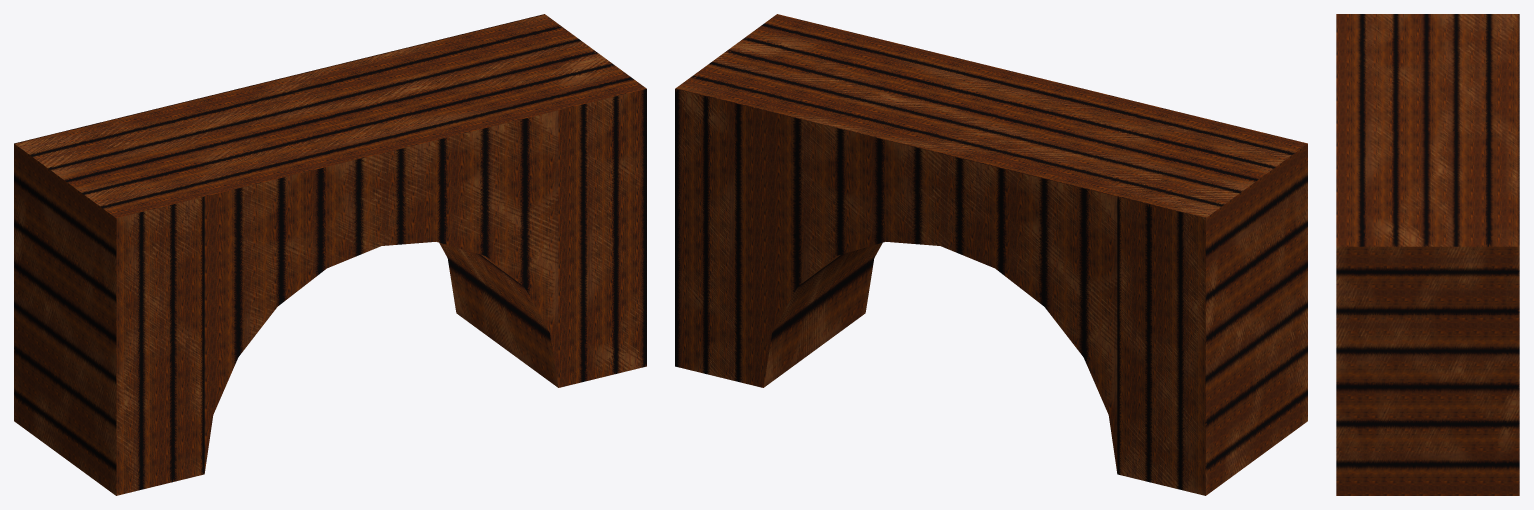
The model's file is doorway_1.fbx.
3 renders of one model, left to right at view 1: azimuth 30°, elevation 25°; view 2: azimuth 150°, elevation 25°; view 3: azimuth 270°, elevation 25°, orthographic. The views are drawn at different scales.
Visible parts, largest first — view 1: pCylinder1; view 2: pCylinder1; view 3: pCylinder1.
Part boxes in pixels (box(x1,y1,x2,y2)): pCylinder1: box(14, 14, 646, 495); pCylinder1: box(675, 14, 1307, 495); pCylinder1: box(1336, 14, 1519, 495).
Bounding box in the file's own units: 1.5 × 0.75 × 0.5.
Materials: 1 (1 with a texture image).
